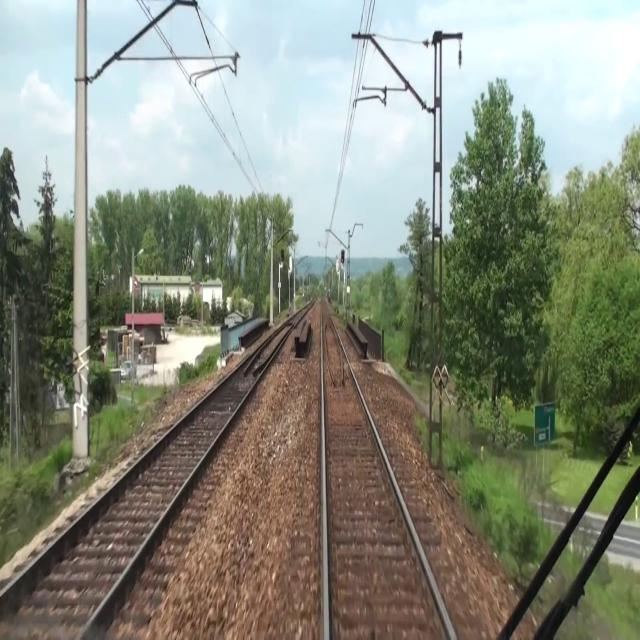rail-track: (0, 325, 290, 639), (322, 296, 452, 639), (291, 304, 310, 322)
